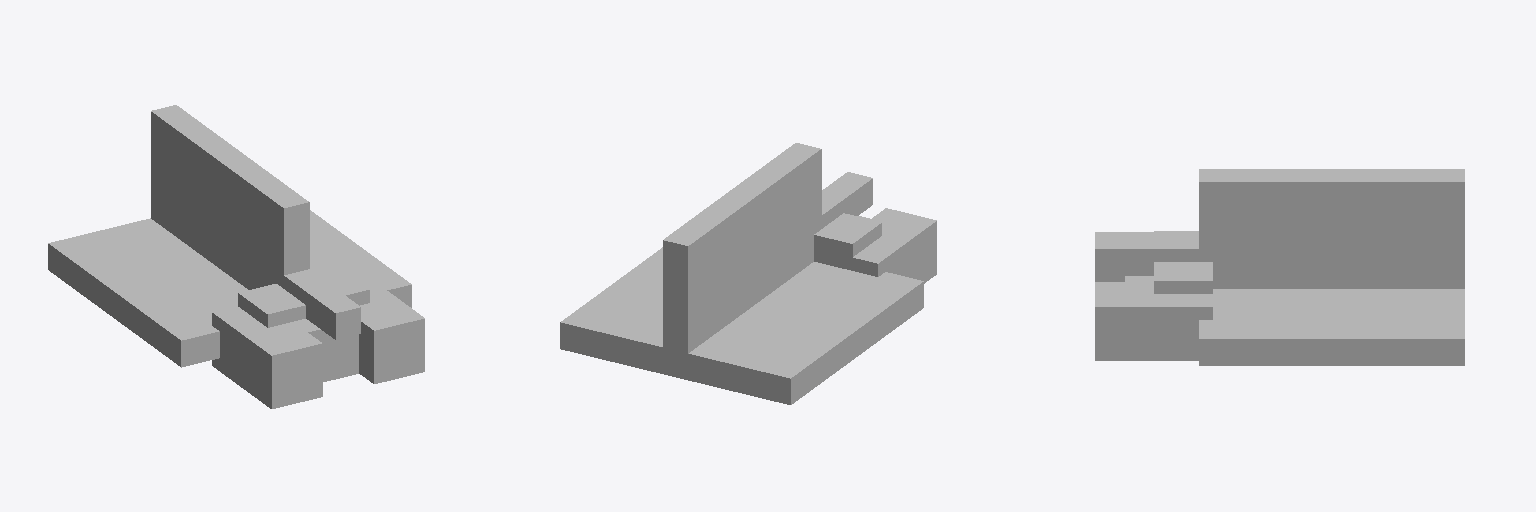
File: nv_goggles_hat.obj
The picture shows the model from 3 angles: view 1: azimuth 30°, elevation 25°; view 2: azimuth 150°, elevation 25°; view 3: azimuth 270°, elevation 25°; orthographic projection.
Parts seen in each view (by area): view 1: Shape9, Shape8, Shape2, Shape3, Shape4, Shape6, Shape5; view 2: Shape9, Shape8, Shape2, Shape5, Shape6, Shape3; view 3: Shape8, Shape9, Shape2, Shape6, Shape4, Shape5.
Part boxes in pixels (x1,y1,x2,y2): Shape9: (48, 210, 411, 367); Shape8: (151, 105, 309, 289); Shape2: (212, 275, 410, 397); Shape3: (257, 333, 322, 408); Shape4: (359, 308, 424, 383); Shape6: (284, 269, 360, 339); Shape5: (238, 268, 369, 327); Shape9: (560, 247, 923, 404); Shape8: (663, 143, 821, 353); Shape2: (818, 216, 922, 280); Shape5: (814, 213, 881, 270); Shape6: (814, 172, 872, 233); Shape3: (872, 208, 936, 283); Shape8: (1199, 169, 1464, 288); Shape9: (1199, 289, 1464, 365); Shape2: (1125, 232, 1212, 360); Shape6: (1095, 236, 1212, 275); Shape4: (1095, 282, 1124, 360); Shape5: (1154, 231, 1212, 293).
Bounding box in the file's own units: 0.5625 × 0.375 × 0.7812.